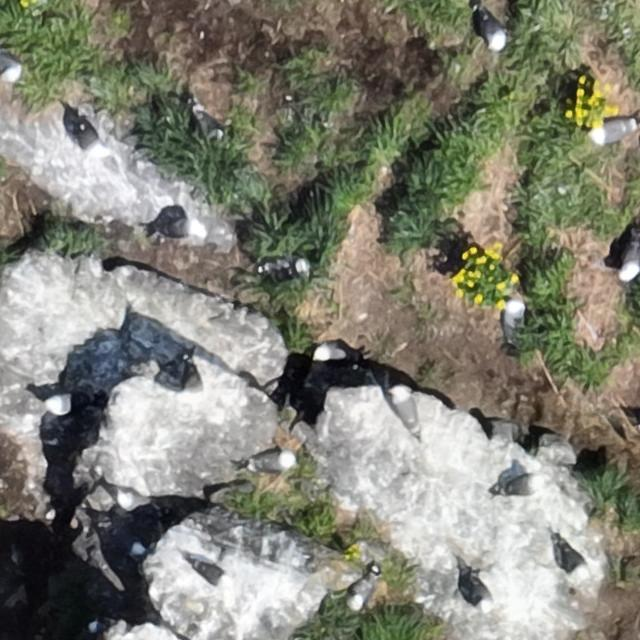umineko: (459, 568, 500, 620), (556, 534, 591, 583), (72, 110, 108, 157), (256, 255, 315, 281), (117, 488, 161, 517), (163, 216, 208, 241), (48, 394, 90, 419), (479, 13, 506, 49), (593, 119, 635, 142), (351, 574, 376, 608), (252, 450, 294, 470), (192, 562, 226, 586), (393, 390, 415, 425), (504, 297, 524, 333), (502, 476, 538, 495), (622, 244, 640, 282), (196, 110, 221, 136), (1, 50, 22, 80), (184, 363, 202, 397), (316, 343, 347, 360)
